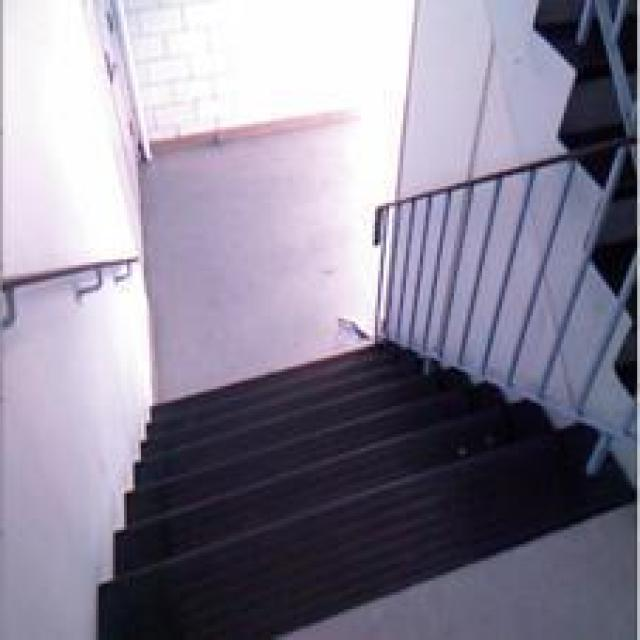downstair: (128, 458, 579, 607)
